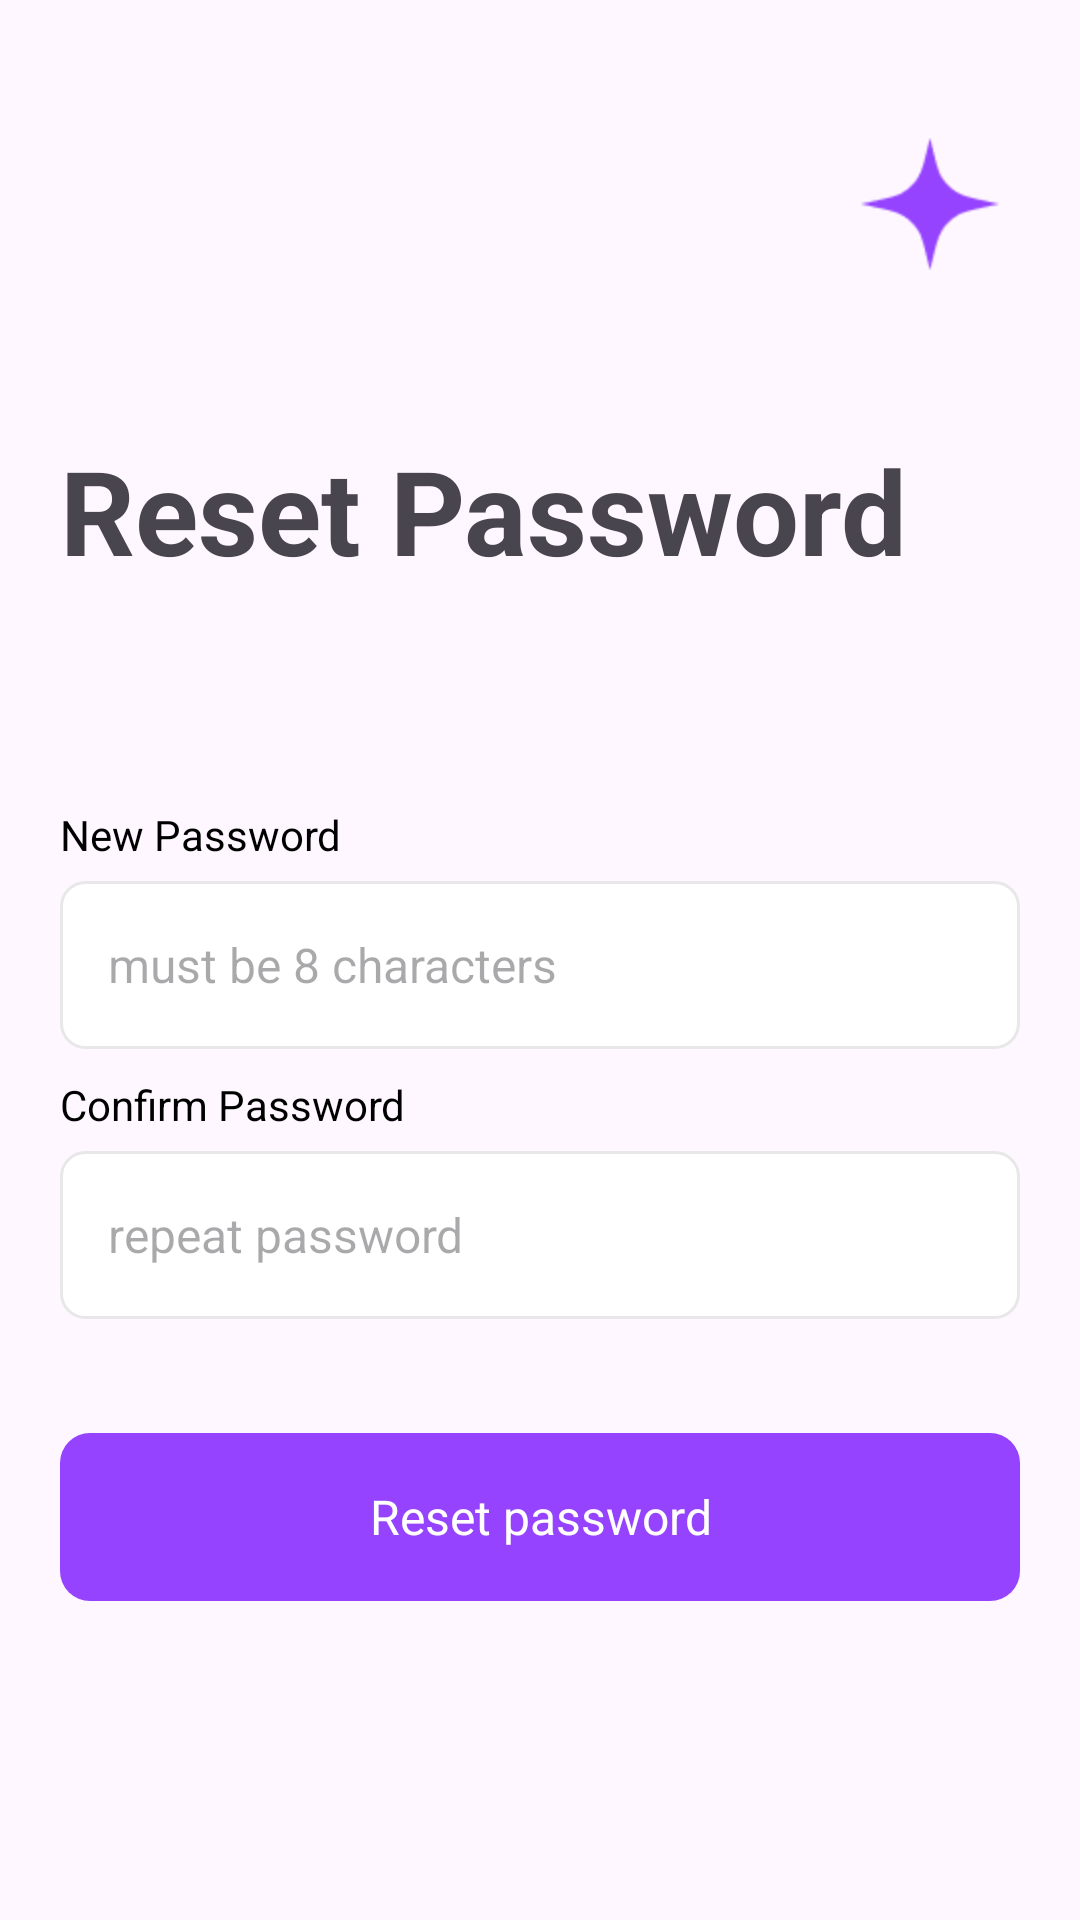

Named icons in this screenshot (1080*1920) and their bounding boxes, (x1, y1, x2, y2):
login star: (862, 138, 998, 270)
